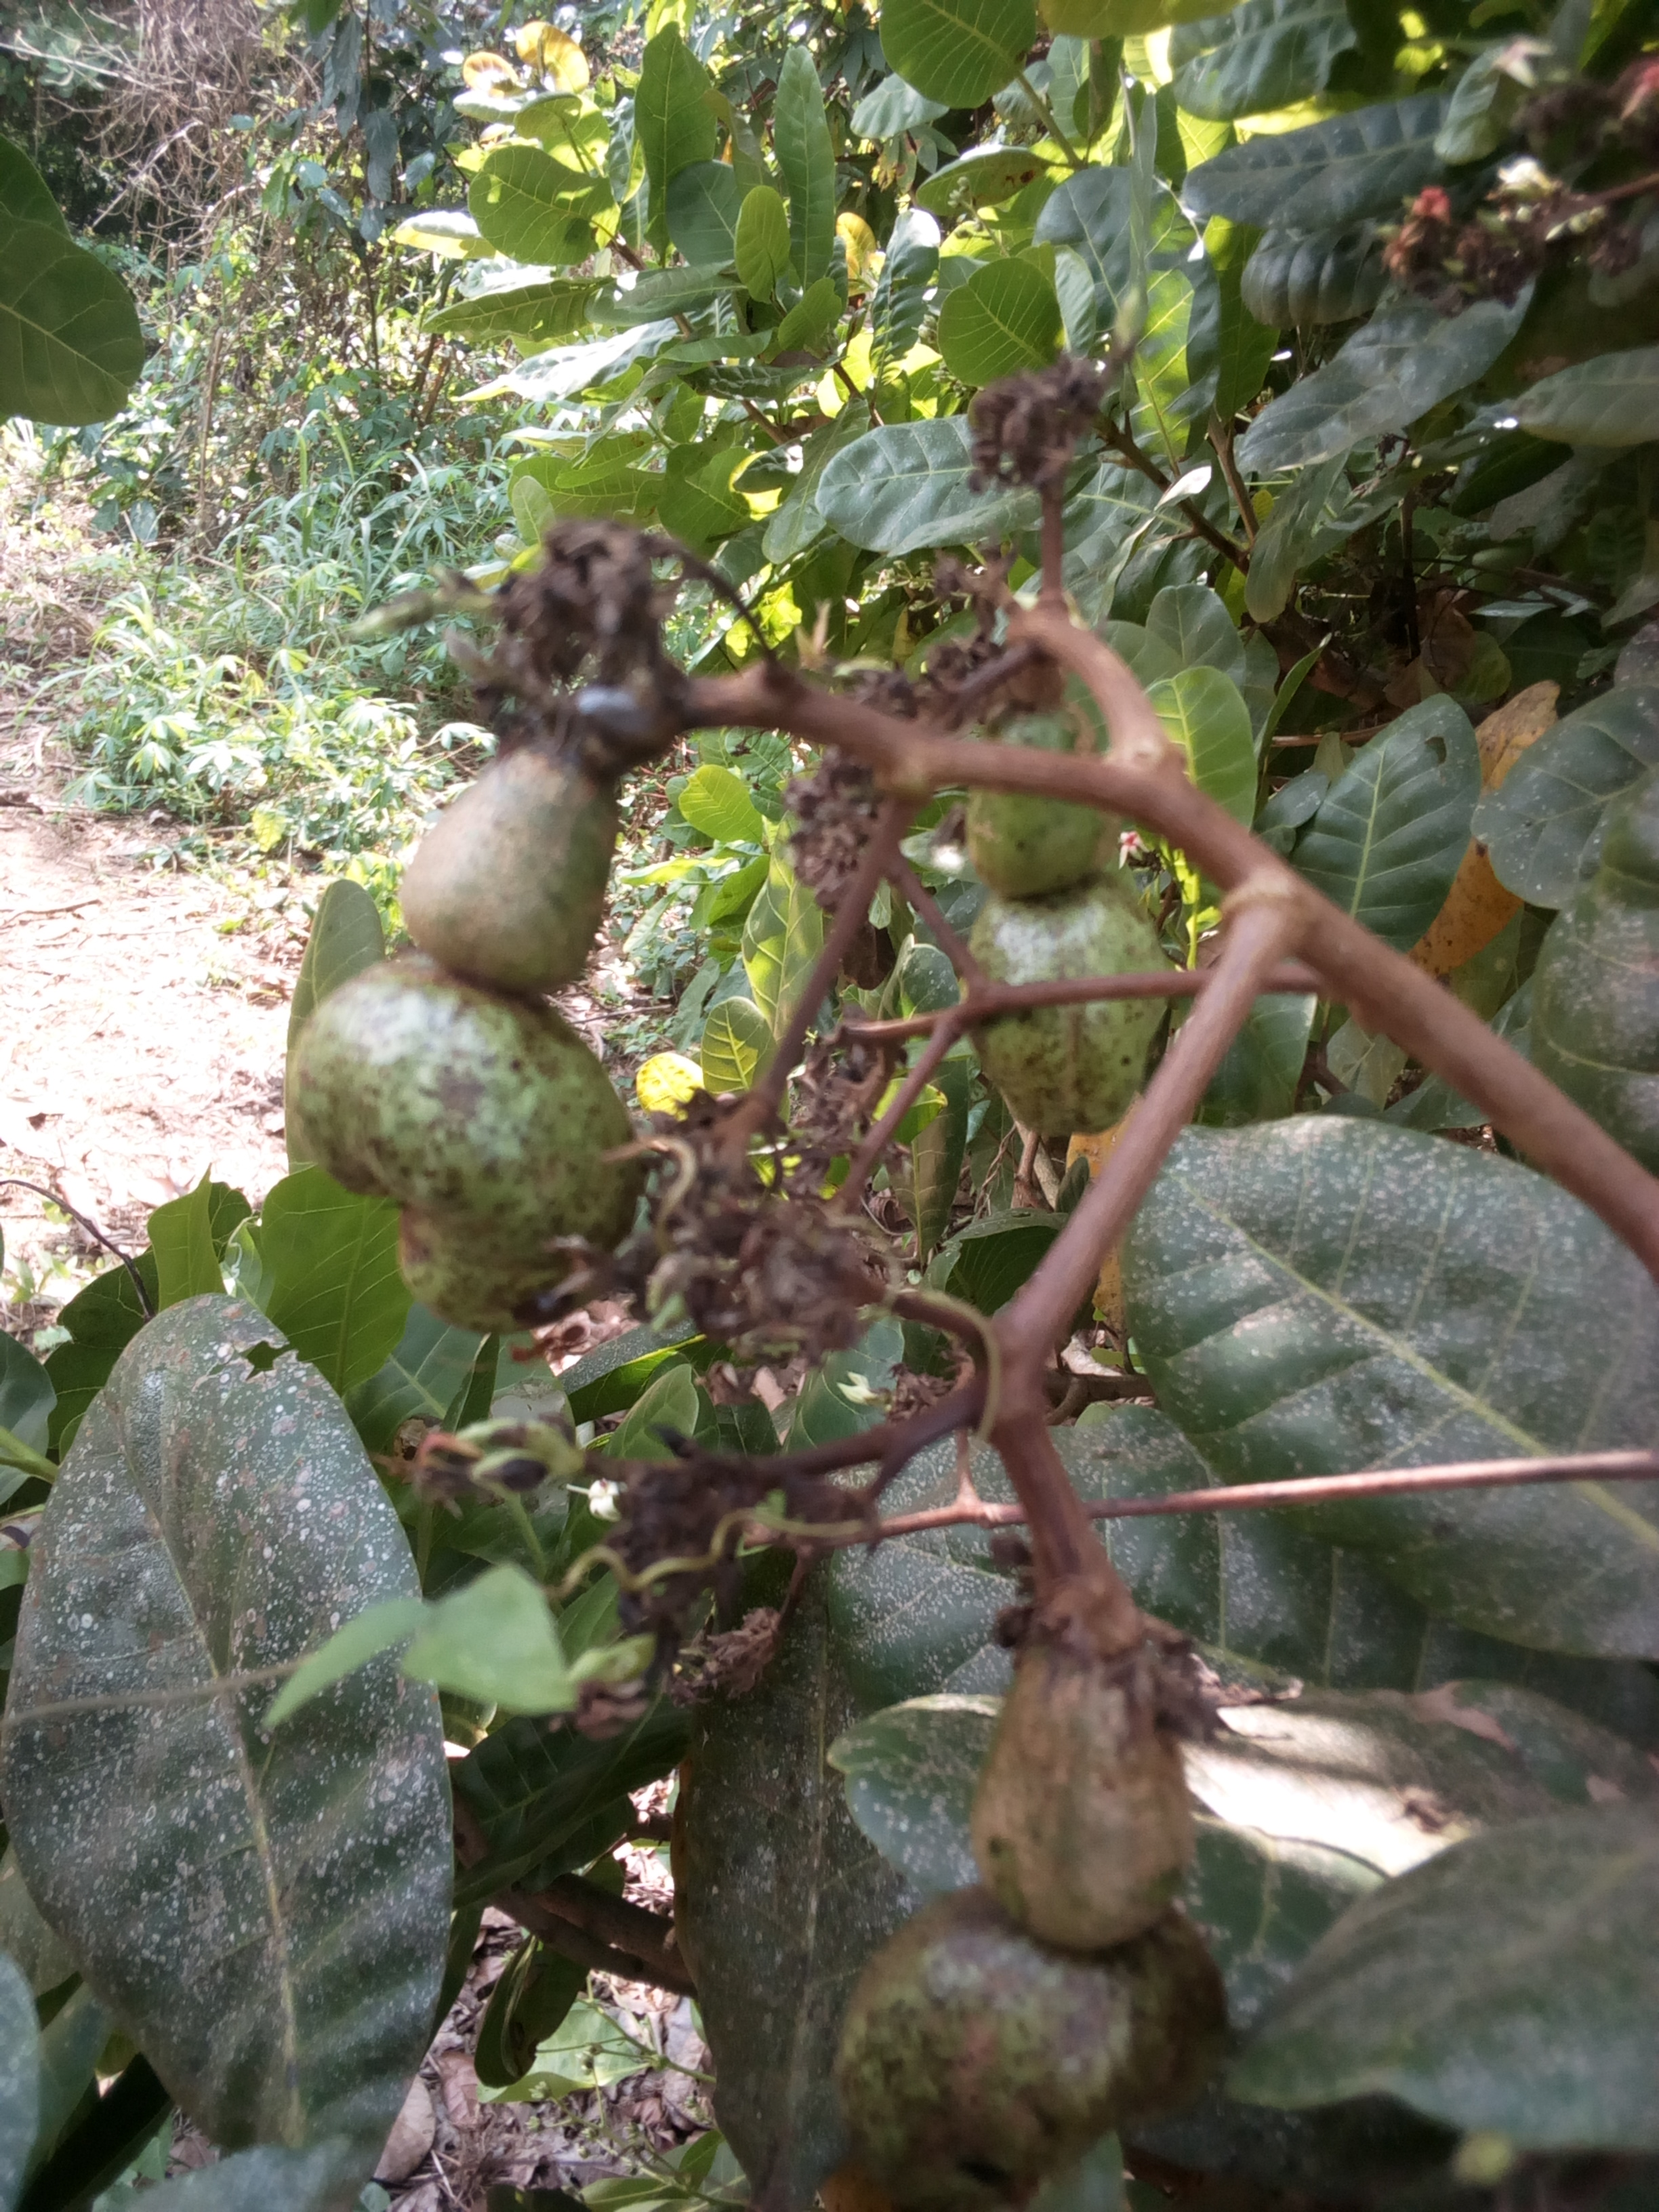Oïdium: (0, 1271, 549, 2174), (1070, 1120, 1659, 1648), (643, 1573, 1063, 2212), (1277, 686, 1551, 1042)
